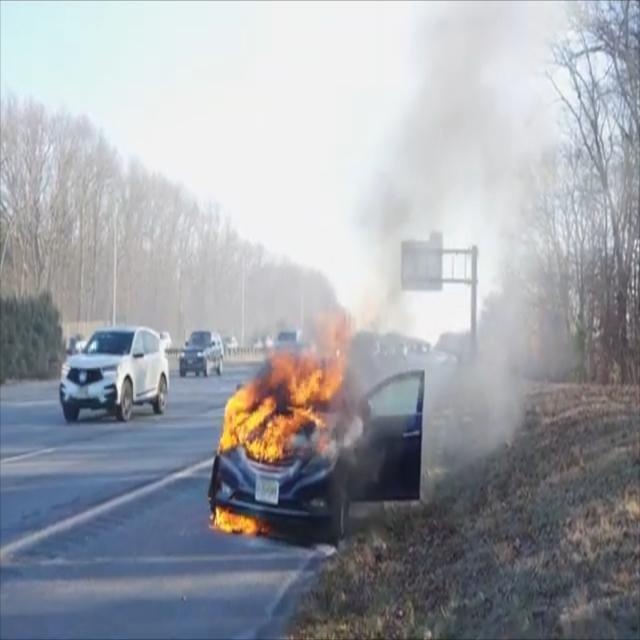fire: (206, 314, 368, 536)
